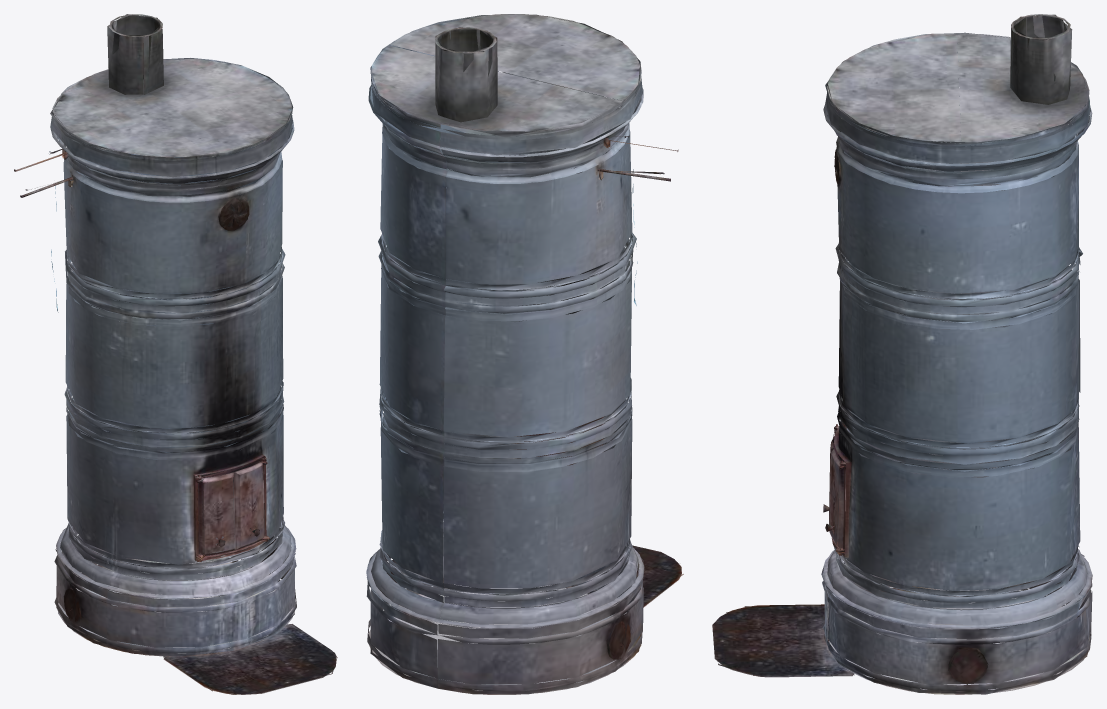
The model's file is stove_masonry.glb.
3 renders of one model, left to right at view 1: azimuth 30°, elevation 25°; view 2: azimuth 150°, elevation 25°; view 3: azimuth 270°, elevation 25°, orthographic. The views are drawn at different scales.
Parts seen in each view (by area): view 1: scandinavian_masonry_heater; view 2: scandinavian_masonry_heater; view 3: scandinavian_masonry_heater.
Part boxes in pixels (bbox=[...]): scandinavian_masonry_heater: bbox=[14, 14, 337, 694]; scandinavian_masonry_heater: bbox=[366, 14, 683, 694]; scandinavian_masonry_heater: bbox=[712, 14, 1092, 694].
Bounding box in the file's own units: 1.17 × 2.36 × 1.33.
1 material, 1 textured.
